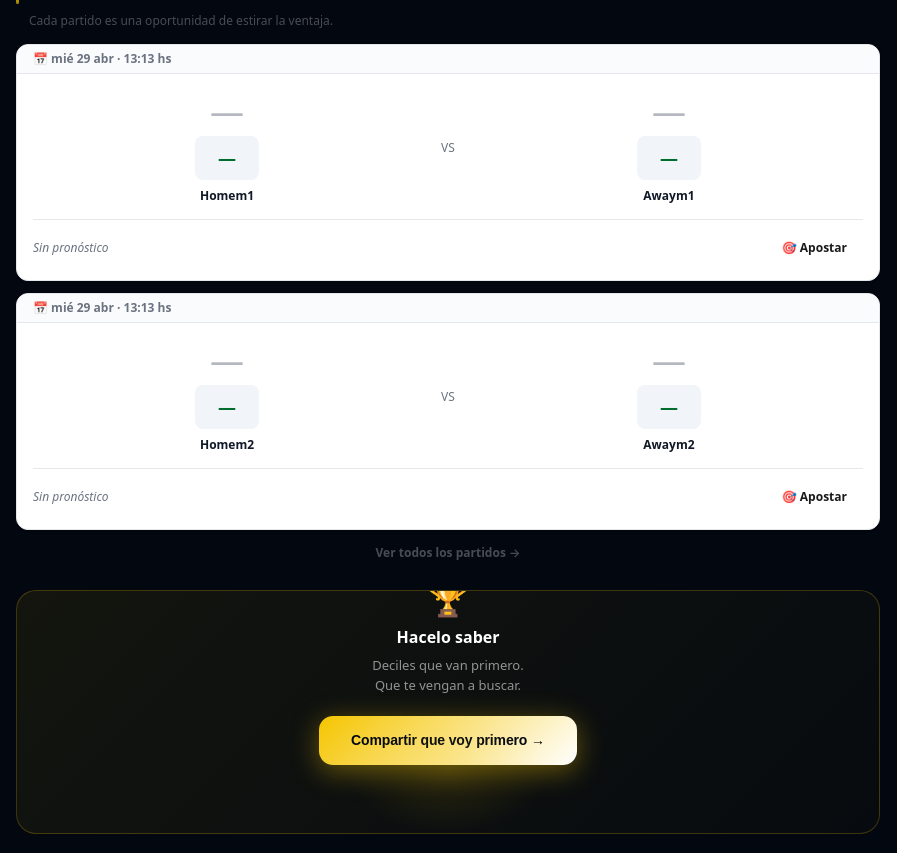
Test case: LeaderHome — compartir › sin navigator.share → click muestra "✓ Link copiado"
(page scrolled)
What coordinates should you click on to do the following:
click the button "Compartir que voy primero →"
I would click on:
 (448, 741)
Its box is [319,716,577,765].
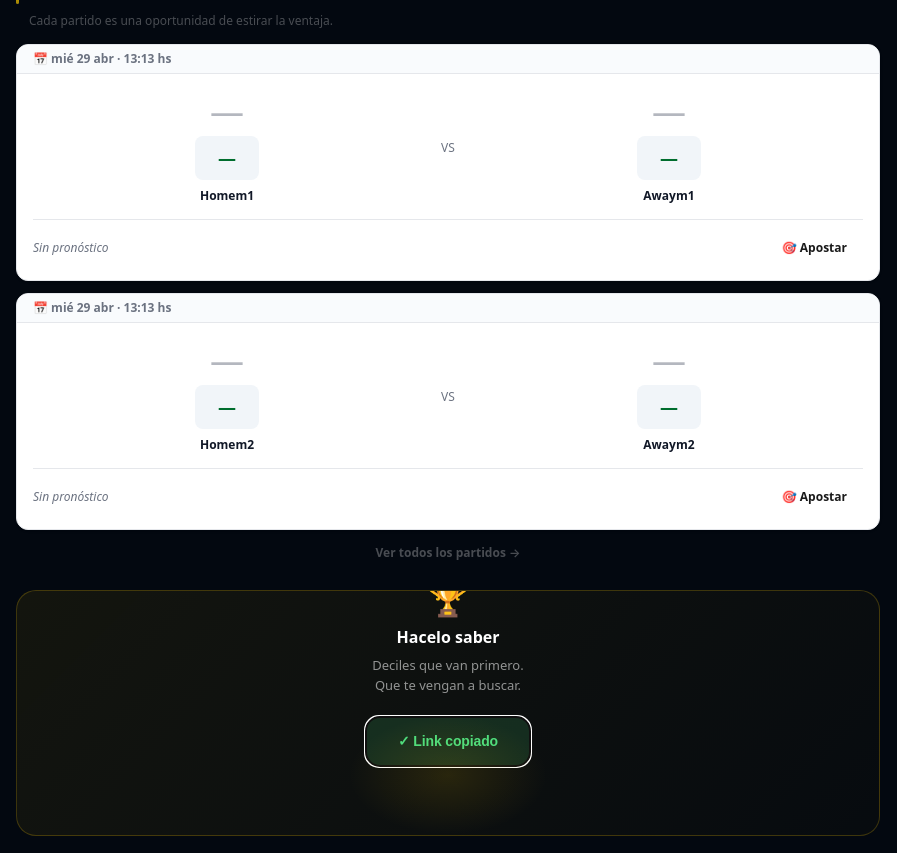
Check: the button "✓ Link copiado" is shown, box [365,716,531,767]
